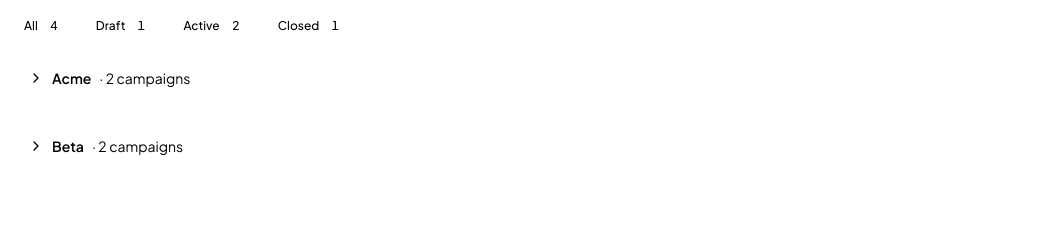
Test: CampaignsListWithFilter › clicking DRAFT shows only DRAFT campaigns
Click the button with test id "campaign-filter-pill-draft" at (124, 26), box x1=84 y1=12 x2=164 y2=40
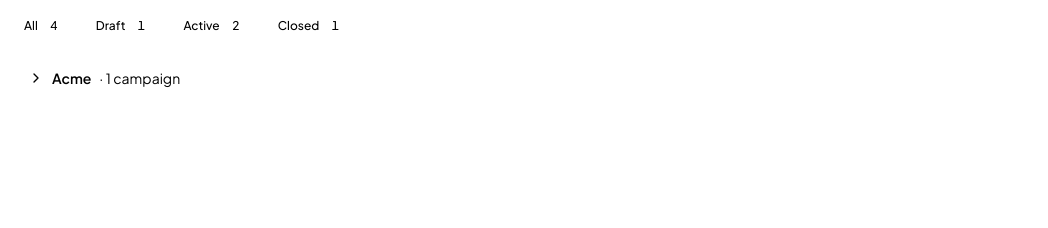
Click the button "Acme · 1 campaign" at (72, 78), box x1=12 y1=56 x2=1036 y2=100
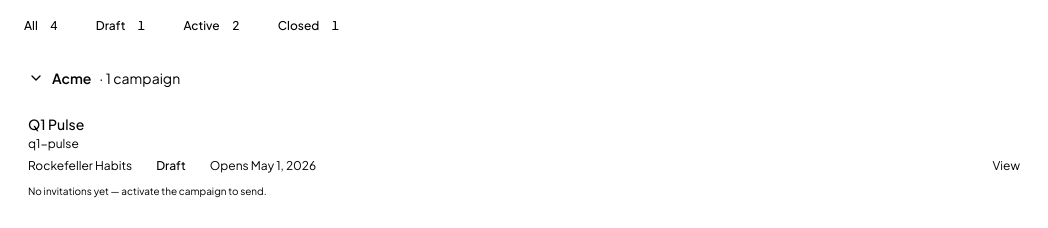
Result: the element with test id "campaign-row-c1" is shown at x1=12 y1=100 x2=1036 y2=211
